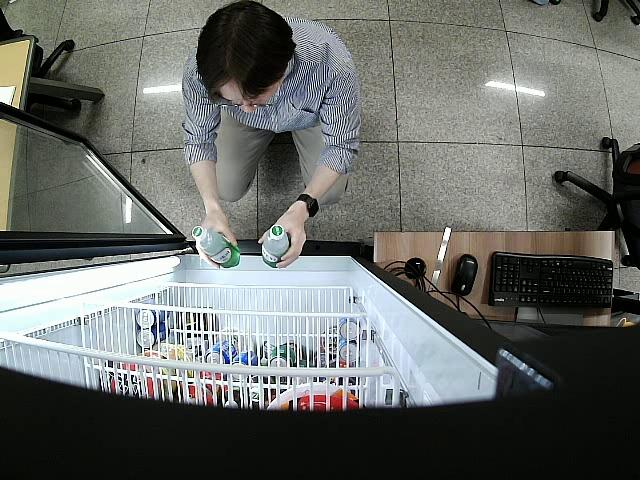00_hand: (258, 219, 306, 268), (195, 218, 239, 269)
18_trevi: (191, 225, 240, 269), (260, 224, 290, 269)
